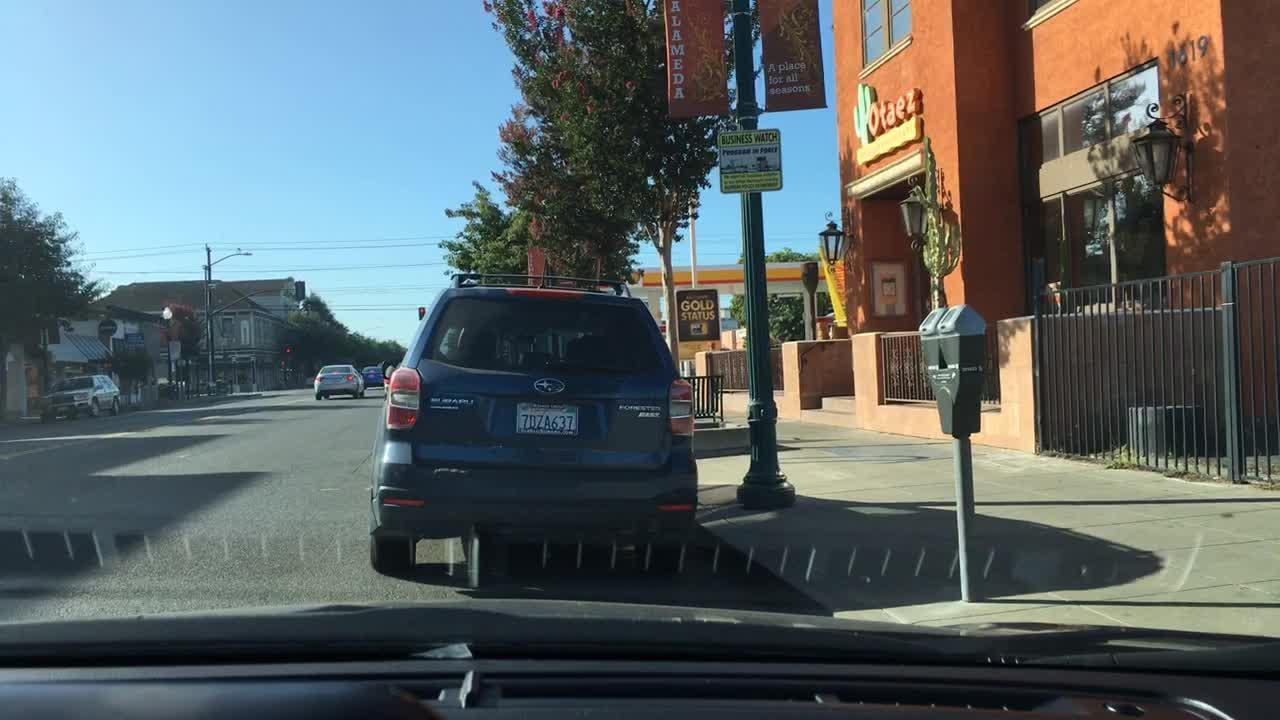subaru: (530, 376, 568, 399)
